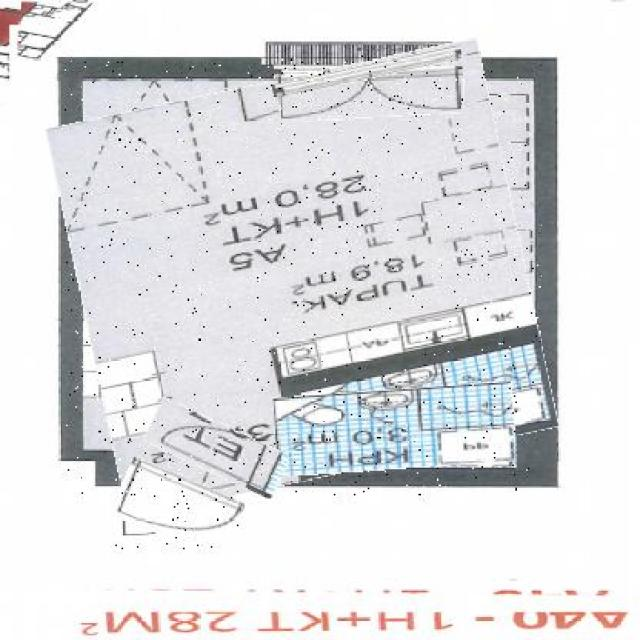door: (144, 411, 288, 486), (114, 468, 241, 550), (280, 70, 465, 119)
window: (271, 55, 463, 88)
zone: (64, 60, 542, 497), (274, 386, 515, 471)
